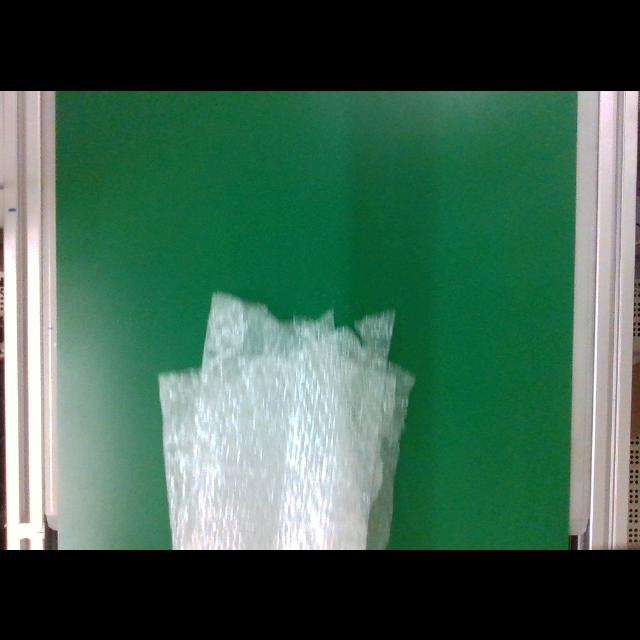scrap_plastic: (151, 288, 415, 548)
